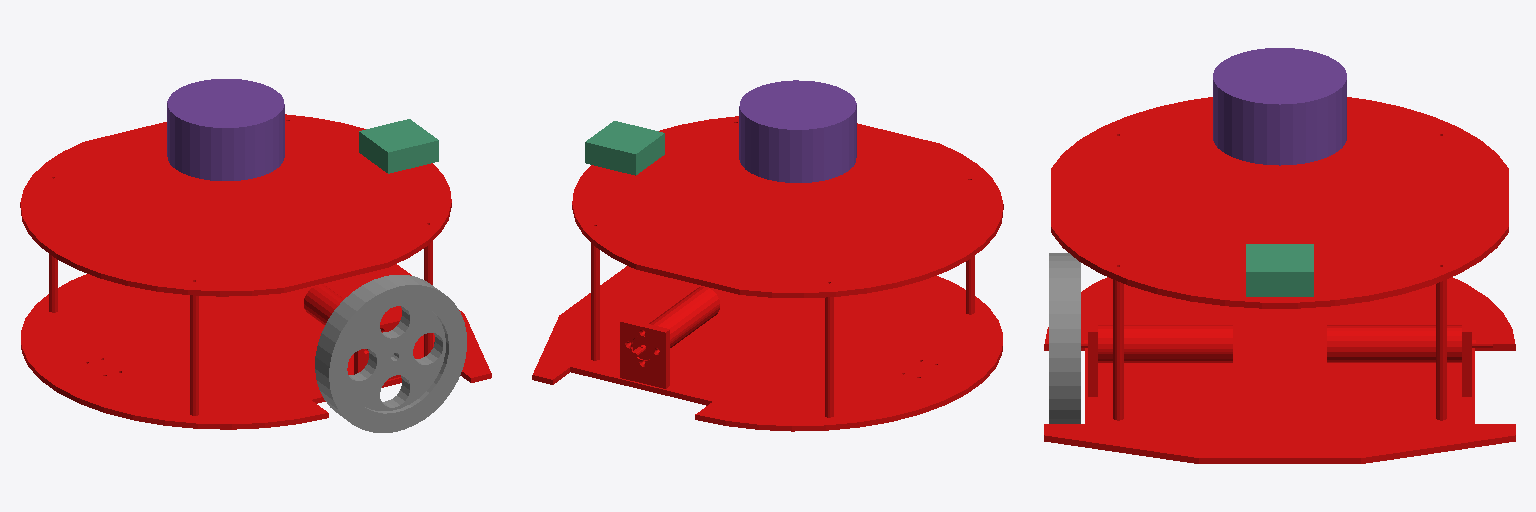
The robot description file, URDF, robot "diff_mobile":
<?xml version="1.0"?>

<robot name="diff_mobile">
<!-- Link -->
	<link name="fixed_base" />

	<link name="base_link">
   		<visual>
			<origin xyz="0 0 0" rpy="0 0 1.5707963268" />
			<geometry>
				<mesh filename="package://dtb_urdf/base_link.STL" />
			</geometry>
			<material name="Aluminum">
				<color rgba="0.9 0.1 0.1 1" />
			</material>
   		</visual>

		<collision>
			<origin xyz="0 0 0" rpy="0 0 1.5707963268" />
			<geometry>
				<mesh filename="package://dtb_urdf/base_link.STL" />
			</geometry>
		</collision>

		<inertial>
			<origin xyz="0 0.055998 0.019157" rpy="0 0 1.5707963268" />
			<mass value="5.6718"/>
	 		<inertia
	 			ixx="0.017303" ixy="0" ixz="0"
				iyy="0.011944" iyz="0.00013524"
				izz="0.018716" />
		</inertial>
 	</link>

 	<link name="wheel_l">
   		<visual>
			<origin xyz="0 0 0" rpy="0 0 0"/>
     			<geometry>
				<mesh filename="package://dtb_urdf/wheel_l.STL" />
			</geometry>
   			<material name="Rubber">
				<color rgba="0.6 0.6 0.6 1"/>
			</material>
		</visual>
		<collision>
			<origin xyz="0 0 0" rpy="0 0 0" />
			<geometry>
				<mesh filename="package://dtb_urdf/wheel_l.STL" />
			</geometry>
		</collision>
		<inertial>
			<origin xyz="0.012 0 0" rpy="0 0 0" />
			<mass value="0.31944"/>
	 		<inertia
	 			ixx="9.1964E-05" ixy="0" ixz="0"
				iyy="0.000472088" iyz="0"
				izz="0.000472088" />
		</inertial>
 	</link>

 	<link name="wheel_r">
   		<visual>
			<origin xyz="0 0 0" rpy="0 0 0"/>
     			<geometry>
					<mesh filename="package://dtb_urdf/wheel_r.STL" />
				</geometry>
   			<material name="Rubber">
				<color rgba="0.6 0.6 0.6 1"/>
			</material>
		</visual>
		<collision>
			<origin xyz="0 0 0" rpy="0 0 0" />
			<geometry>
				<mesh filename="package://dtb_urdf/wheel_r.STL" />
			</geometry>
		</collision>
		<inertial>
			<origin xyz="-0.012 0 0" rpy="0 0 0" />
			<mass value="0.31944"/>
	 		<inertia
	 			ixx="9.1964E-05" ixy="0" ixz="0"
				iyy="0.000472088" iyz="0"
				izz="0.000472088" />
		</inertial>
 	</link>

	<link name="camera_link">
		<visual>
			<origin xyz="0 0 0" rpy="0 0 0"/>
			<geometry>
				<box size="0.05 0.05 0.02"/>
			</geometry>
			<material name="CameraPlastic">
				<color rgba="0.32 0.63 0.482 1.0"/>
			</material>
		</visual>
	</link>

	<link name="lidar_link">
		<visual>
			<origin xyz="0 0 0" rpy="0 0 0"/>
			<geometry>
				<cylinder radius="0.05" length="0.05"/>
			</geometry>
			<material name="lidarPlastic">
				<color rgba="0.482 0.32 0.63 1.0"/>
			</material>
		</visual>
	</link>
	
<!-- Joint --> 
 	<joint name="fixed_base_to_base_link" type="fixed">
 		<parent link="fixed_base"/>
 		<child link="base_link" />
		<origin xyz="0 0 0.03" rpy="0 0 0"/>
 	</joint>
	
 	<joint name="base_to_wheel_l" type="continuous">
   		<parent link="base_link"/>
   		<child link="wheel_l"/>
   		<origin xyz="0.07 0.16 0.038" rpy="0 0 1.5707963268"/>
		<axis xyz="1 0 0"/>
		<dynamics
			friction="1.0"
			damping="1.0" />
 	</joint>

 	<joint name="base_to_wheel_r" type="continuous">
   		<parent link="base_link"/>
   		<child link="wheel_r"/>
   		<origin xyz="0.07 -0.16 0.038" rpy="0 0 1.5707963268"/>
		<axis xyz="1 0 0"/>
		<dynamics
			friction="1.0"
			damping="1.0" />
 	</joint>
	
	<joint name="base_to_camara" type="fixed">
		<origin xyz="0.17 0 0.145" rpy="0.0 0.0 0.0"/>
		<parent link="base_link"/>
		<child link="camera_link"/>
		<axis xyz="0 0 0"/>
	</joint>

	<joint name="base_to_lidar" type="fixed">
		<origin xyz="0 0 0.2" rpy="0.0 0.0 0.0"/>
		<parent link="base_link"/>
		<child link="lidar_link"/>
		<axis xyz="0 0 0"/>
	</joint>


	<!-- gazebo-->
	<gazebo reference="base_link">
		<mu1>0.1</mu1>
		<mu2>0.1</mu2>
		<material> Gazebo/Red </material>
	</gazebo>

	<gazebo reference="wheel_l">
		<mu1>1.0</mu1>
		<mu2>1.0</mu2>

		<kp>500000.0</kp>
		<kd>10.0</kd>
		<material> Gazebo/Black </material>
	</gazebo>

	<gazebo reference="wheel_r">
		<mu1>1.0</mu1>
		<mu2>1.0</mu2>
		
		<kp>500000.0</kp>
		<kd>10.0</kd>
		<material> Gazebo/Black</material>
	</gazebo>

	<gazebo>
		<plugin name="diff_mobile" filename="libgazebo_ros_diff_drive.so">
			<ros>
			<remapping>cmd_vel:=cmd_vel</remapping>
			<remapping>odom:=odom</remapping>
			</ros>

			<update_rate>20</update_rate>
			<left_joint>base_to_wheel_l</left_joint>
			<right_joint>base_to_wheel_r</right_joint>

			<wheel_separation>0.32</wheel_separation>
			<wheel_diameter>0.20</wheel_diameter>

			<max_wheel_torque>20</max_wheel_torque>
			<max_wheel_accleration>0.5</max_wheel_accleration>

			<command_topic>cmd_vel</command_topic>

			<publish_odom>true</publish_odom>
			<publish_odom_tf>true</publish_odom_tf>
			<publish_wheel_tf>true</publish_wheel_tf>

			<odometry_topic>odom</odometry_topic>
			<odometry_frame>odom</odometry_frame>
			<robot_base_frame>fixed_base</robot_base_frame>
		</plugin>
	</gazebo>

	  <!-- camera -->
	<gazebo reference="camera_link">
		<material>Gazebo/Blue</material>
		<sensor type="camera" name="camera1">
		<update_rate>30.0</update_rate>
		<camera name="head">
			<horizontal_fov>1.3962634</horizontal_fov>
			<image>
			<width>800</width>
			<height>800</height>
			<format>R8G8B8</format>
			</image>
			<clip>
			<near>0.02</near>
			<far>300</far>
			</clip>
			<noise>
			<type>gaussian</type>
			<!-- Noise is sampled independently per pixel on each frame.
				That pixel's noise value is added to each of its color
				channels, which at that point lie in the range [0,1]. -->
			<mean>0.0</mean>
			<stddev>0.007</stddev>
			</noise>
		</camera>
		<plugin name="camera_controller" filename="libgazebo_ros_camera.so">
			<alwaysOn>true</alwaysOn>
			<updateRate>0.0</updateRate>
			<cameraName>rrbot/camera1</cameraName>
			<imageTopicName>image_raw</imageTopicName>
			<cameraInfoTopicName>camera_info</cameraInfoTopicName>
			<frameName>camera_link</frameName>
			<hackBaseline>0.07</hackBaseline>
			<distortionK1>0.0</distortionK1>
			<distortionK2>0.0</distortionK2>
			<distortionK3>0.0</distortionK3>
			<distortionT1>0.0</distortionT1>
			<distortionT2>0.0</distortionT2>
		</plugin>
		</sensor>
	</gazebo>

	<!-- lidar -->
	<gazebo reference="lidar_link">
		<sensor type="ray" name="head_lidar_sensor">
		<pose>0 0 0 0 0 0</pose>
		<visualize>false</visualize>
		<update_rate>100</update_rate>
		<ray>
			<scan>
			<horizontal>
				<samples>720</samples>
				<resolution>1</resolution>
				<min_angle>-3.141592</min_angle>
				<max_angle>3.141592</max_angle>
			</horizontal>
			</scan>
			<range>
			<min>0.10</min>
			<max>15.0</max>
			<resolution>1</resolution>
			</range>
			<noise>
			<type>gaussian</type>
			<!-- Noise parameters based on published spec for Hokuyo laser
				achieving "+-30mm" accuracy at range < 10m.  A mean of 0.0m and
				stddev of 0.01m will put 99.7% of samples within 0.03m of the true
				reading. -->
			<mean>0.0</mean>
			<stddev>0.01</stddev>
			</noise>
		</ray>
		<plugin name="gazebo_ros_head_lidar_controller" filename="libgazebo_ros_ray_sensor.so">
			<ros>
				<argument>~/out:=scan</argument>
			</ros>
			<output_type>sensor_msgs/LaserScan</output_type>
			<frameName>lidar_link</frameName>
		</plugin>
		</sensor>
	</gazebo>


</robot>

--- What the picture shows (computed from the rendered views, not written in the file) ---
3 views of the same robot in one strip: view 1: azimuth 30°, elevation 25°; view 2: azimuth 150°, elevation 25°; view 3: azimuth 270°, elevation 25° (orthographic).
Robot: diff_mobile — 6 links, 5 joints (2 continuous, 3 fixed); root link fixed_base; default pose: every joint at zero.
Links seen in each view (by area): view 1: base_link, wheel_r, lidar_link, camera_link; view 2: base_link, lidar_link, camera_link; view 3: base_link, lidar_link, wheel_r, camera_link.
Link boxes in pixels (<box>): base_link: <box>20,114,491,429</box>; wheel_r: <box>315,275,466,432</box>; lidar_link: <box>167,79,284,180</box>; camera_link: <box>359,119,438,173</box>; base_link: <box>532,116,1003,431</box>; lidar_link: <box>739,80,856,182</box>; camera_link: <box>585,121,664,175</box>; base_link: <box>1044,97,1515,463</box>; lidar_link: <box>1213,48,1346,165</box>; wheel_r: <box>1049,253,1080,423</box>; camera_link: <box>1246,244,1313,296</box>.
Bounding box of the posed robot: 0.3745 × 0.35 × 0.255 m (x, y, z).
2 mesh visuals loaded from 3 distinct referenced files (2 binary STL); not drawn: 1 (reference not matched to a file when rendering).
